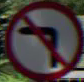Don't turn left: (9, 10, 74, 67)
